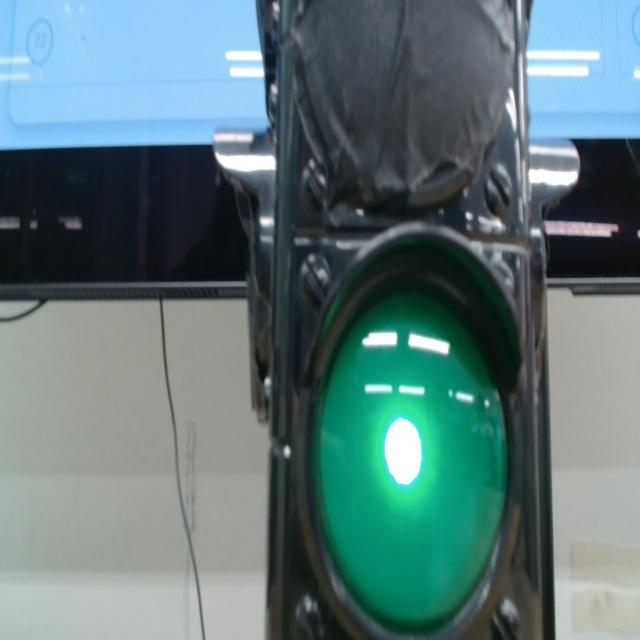green_light: (313, 291, 507, 631), (385, 418, 422, 485)
